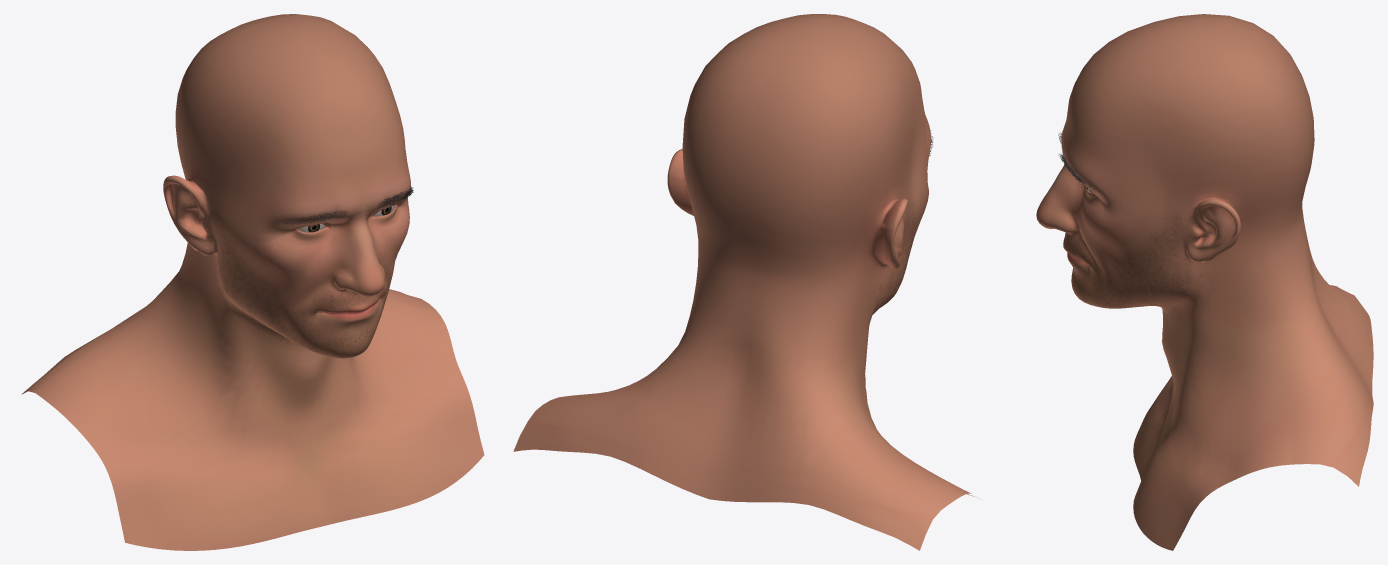
File: Human_Face.glb
3 renders of one model, left to right at view 1: azimuth 30°, elevation 25°; view 2: azimuth 150°, elevation 25°; view 3: azimuth 270°, elevation 25°, orthographic. The views are drawn at different scales.
Parts seen in each view (by area): view 1: #R_TF_00.003; view 2: #R_TF_00.003; view 3: #R_TF_00.003.
Boxes of the visible parts, left/top/right/bottom form: #R_TF_00.003: left=21, top=14, right=484, bottom=550; #R_TF_00.003: left=513, top=14, right=976, bottom=550; #R_TF_00.003: left=1036, top=14, right=1373, bottom=550.
Bounding box in the file's own units: 33.57 × 39.6 × 26.47.
2 materials, 1 textured.
